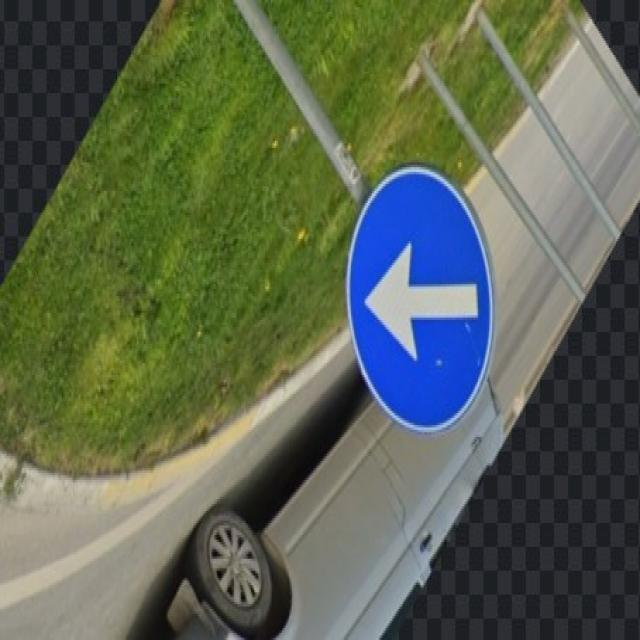Turn Left: (347, 156, 497, 431)
